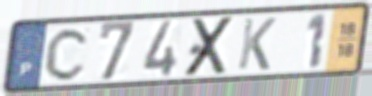1: (306, 12, 328, 70)
4: (142, 19, 181, 80)
7: (97, 19, 136, 83)
C: (42, 25, 93, 83)
K: (235, 16, 278, 72)
X: (181, 14, 238, 79)
